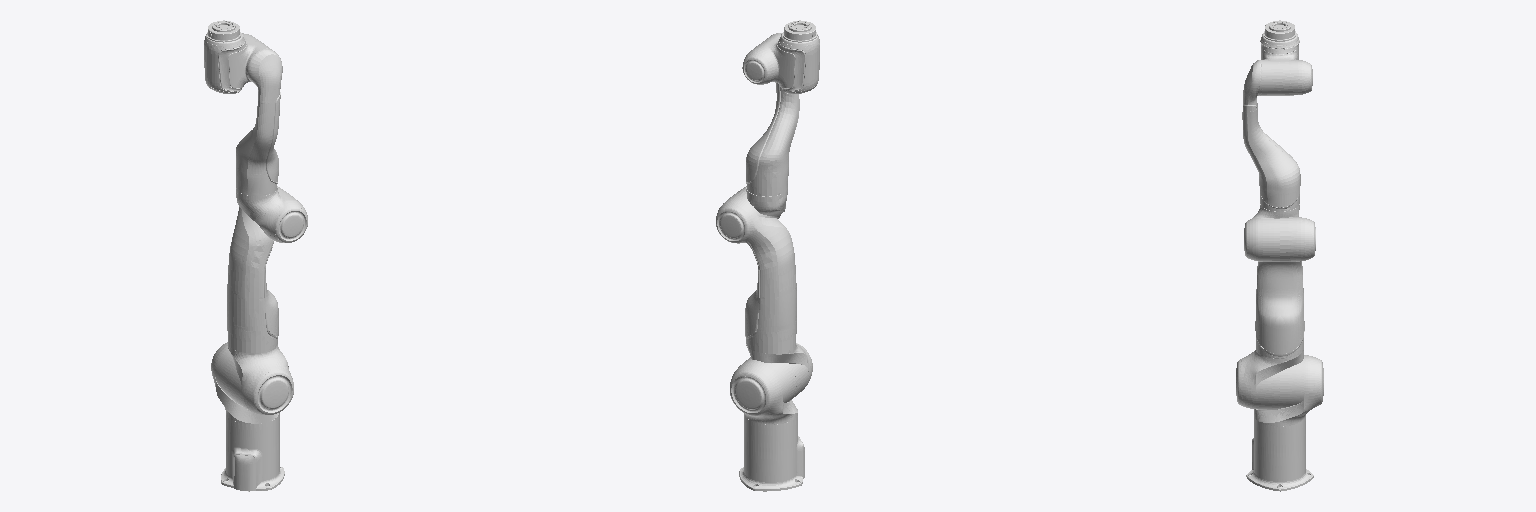
robot.urdf — diana7:
<?xml version="1.0" ?>
<robot name="diana7">
  <link name="world">
    <origin rpy="0 0 0" xyz="0 0 0"/>
  </link>
  <link name="base_link">
    <inertial>
      <origin rpy="0 0 0" xyz="0.00153097191906452 0.00152031034664837 0.0524230280849149"/>
      <mass value="1.33110743457779"/>
      <inertia ixx="0.00695879790529406" ixy="9.99328685258342E-05" ixz="7.99577031212481E-05" iyy="0.00695365531716522" iyz="7.90796997368543E-05" izz="0.00729823323321907"/>
    </inertial>
    <visual>
      <origin rpy="0 0 0" xyz="0 0 0"/>
      <geometry>
        <mesh filename="./meshes/visual/base.obj"/>
      </geometry>
      <material name="">
        <color rgba="0.9 0.9 0.9 1"/>
      </material>
    </visual>
    <collision>
      <origin rpy="0 0 0" xyz="0 0 0"/>
      <geometry>
        <mesh filename="./meshes/collision/base.stl"/>
      </geometry>
    </collision>
  </link>
  <joint name="base_joint" type="fixed">
    <parent link="world"/>
    <child link="base_link"/>
  </joint>
  <link name="link_1">
    <inertial>
      <origin rpy="0 0 0" xyz="5.5234067920554E-05  -0.0254878204920178 0.0355441421264809"/>
      <mass value="1.09025546409174"/>
      <inertia ixx="0.00585031196428369" ixy="1.4630349447555E-07" ixz="1.35351687162397E-06" iyy="0.00645496952227061" iyz="-0.00104800484741808" izz="0.00459531291521244"/>
    </inertial>
    <visual>
      <origin rpy="3.1415926531795866 0 0" xyz="0 0 0"/>
      <geometry>
        <mesh filename="./meshes/visual/link_1.obj"/>
      </geometry>
      <material name="">
        <color rgba="0.9 0.9 0.9 1"/>
      </material>
    </visual>
    <collision>
      <origin rpy="3.1415926531795866 0 0" xyz="0 0 0"/>
      <geometry>
        <mesh filename="./meshes/collision/link_1.stl"/>
      </geometry>
    </collision>
  </link>
  <joint name="joint_1" type="revolute">
    <origin rpy="-3.1415926535795866 0.0 -0.0" xyz="0.0 0.0 0.2856"/>
    <parent link="base_link"/>
    <child link="link_1"/>
    <axis xyz="0 0 1"/>
    <limit effort="235" lower="-3.12" upper="3.12" velocity="2.61"/>
  </joint>
  <link name="link_2">
    <inertial>
      <origin rpy="0 0 0" xyz="-3.62724763868157E-06 -0.0292741005087307 -0.041280769252073"/>
      <mass value="1.09515454908799"/>
      <inertia ixx="0.00575817488413533" ixy="4.92454490330888E-07" ixz="-5.75758988171004E-07" iyy="0.00452592941277235" iyz="0.00135206824645357" izz="0.0058904584276842"/>
    </inertial>
    <visual>
      <origin rpy="0 0 0" xyz="0 0 0"/>
      <geometry>
        <mesh filename="./meshes/visual/link_2.obj"/>
      </geometry>
      <material name="">
        <color rgba="0.9 0.9 0.9 1"/>
      </material>
    </visual>
    <collision>
      <origin rpy="0 0 0" xyz="0 0 0"/>
      <geometry>
        <mesh filename="./meshes/collision/link_2.stl"/>
      </geometry>
    </collision>
  </link>
  <joint name="joint_2" type="revolute">
    <origin rpy="1.57079632679 -0.0 0.0" xyz="0.0 -0.0 0.0"/>
    <parent link="link_1"/>
    <child link="link_2"/>
    <axis xyz="0 0 1"/>
    <limit effort="235" lower="-1.57" upper="1.57" velocity="2.618"/>
  </joint>
  <link name="link_3">
    <inertial>
      <origin rpy="0 3.1415926531795866 3.1415926531795866" xyz="0.0114318213510691 -0.0101707598694861 0.15131695375217"/>
      <mass value="2.01686690128149"/>
      <inertia ixx="0.0362470020041464" ixy="-0.00099203786071914" ixz="-0.00494440140493448" iyy="0.0374857206758098" iyz="-0.00313859974095155" izz="0.00905850119342719"/>
    </inertial>
    <visual>
      <origin rpy="3.1415926531795866 0 0" xyz="0 0 0"/>
      <geometry>
        <mesh filename="./meshes/visual/link_3.obj"/>
      </geometry>
      <material name="">
        <color rgba="0.9 0.9 0.9 1"/>
      </material>
    </visual>
    <collision>
      <origin rpy="3.1415926531795866 0 0" xyz="0 0 0"/>
      <geometry>
        <mesh filename="./meshes/collision/link_3.stl"/>
      </geometry>
    </collision>
  </link>
  <joint name="joint_3" type="revolute">
    <origin rpy="-1.57079632679 0.0 0.0" xyz="0.0 -0.4586 0.0"/>
    <parent link="link_2"/>
    <child link="link_3"/>
    <axis xyz="0 0 1"/>
    <limit effort="111" lower="-3.12" upper="3.12" velocity="2.61"/>
  </joint>
  <link name="link_4">
    <inertial>
      <origin rpy="0 0 0" xyz="-0.0240716370537192 -0.0235631728011761 -0.0366858174253844"/>
      <mass value="0.849743349506889"/>
      <inertia ixx="0.00313444335639628" ixy="-0.000681243351041131" ixz="0.000725380047812207" iyy="0.00333717642442852" iyz="0.000771057559109157" izz="0.0034847726349841"/>
    </inertial>
    <visual>
      <origin rpy="0 0 0" xyz="0 0 0"/>
      <geometry>
        <mesh filename="./meshes/visual/link_4.obj"/>
      </geometry>
      <material name="">
        <color rgba="0.9 0.9 0.9 1"/>
      </material>
    </visual>
    <collision>
      <origin rpy="0 0 0" xyz="0 0 0"/>
      <geometry>
        <mesh filename="./meshes/collision/link_4.stl"/>
      </geometry>
    </collision>
  </link>
  <joint name="joint_4" type="revolute">
    <origin rpy="1.57079632679 -0.0 0.0" xyz="0.065 -0.0 0.0"/>
    <parent link="link_3"/>
    <child link="link_4"/>
    <axis xyz="0 0 1"/>
    <limit effort="111" lower="0" upper="3.05" velocity="2.61"/>
  </joint>
  <link name="link_5">
    <inertial>
      <origin rpy="0 3.1415926531795866 3.1415926531795866" xyz="-0.00867148011164554 0.0383499684802812 0.188626"/>
      <mass value="1.20580396965245"/>
      <inertia ixx="0.0218436427570802" ixy="-0.000309747330693722" ixz="0.00089039094846826" iyy="0.0205896836785318" iyz="0.00493573923914426" izz="0.00372270106038425"/>
    </inertial>
    <visual>
      <origin rpy="3.1415926531795866 0 0" xyz="0 0 -0.02162"/>
      <geometry>
        <mesh filename="./meshes/visual/link_5.obj"/>
      </geometry>
      <material name="">
        <color rgba="0.9 0.9 0.9 1"/>
      </material>
    </visual>
    <collision>
      <origin rpy="3.1415926531795866 0 0" xyz="0 0 -0.02162"/>
      <geometry>
        <mesh filename="./meshes/collision/link_5.stl"/>
      </geometry>
    </collision>
  </link>
  <joint name="joint_5" type="revolute">
    <origin rpy="-1.57079632679 0.0 0.0" xyz="-0.0528 -0.4554 0.0"/>
    <parent link="link_4"/>
    <child link="link_5"/>
    <axis xyz="0 0 1"/>
    <limit effort="54" lower="-3.12" upper="3.12" velocity="3.14"/>
  </joint>
  <link name="link_6">
    <inertial>
      <origin rpy="0 3.1415926531795866 3.1415926531795866" xyz="0.045897226241036 0.00848579821002571 -0.0078257811617596"/>
      <mass value="0.847157564562275"/>
      <inertia ixx="0.00286926864109097" ixy="-0.000341664135091818" ixz="-0.000318082297486923" iyy="0.0043294660443987" iyz="-5.82962380662208E-05" izz="0.00437292566725527"/>
    </inertial>
    <visual>
      <origin rpy="3.1415926531795866 0 3.14159265359" xyz="0 0 0"/>
      <geometry>
        <mesh filename="./meshes/visual/link_6.obj"/>
      </geometry>
      <material name="">
        <color rgba="0.9 0.9 0.9 1"/>
      </material>
    </visual>
    <collision>
      <origin rpy="3.1415926531795866 0 3.14159265359" xyz="0 0 0"/>
      <geometry>
        <mesh filename="./meshes/collision/link_6.stl"/>
      </geometry>
    </collision>
  </link>
  <joint name="joint_6" type="revolute">
    <origin rpy="1.57079632679 -1.0206823934513925e-11 -3.141592653589793" xyz="-0.0122 0.0 0.0"/>
    <parent link="link_5"/>
    <child link="link_6"/>
    <axis xyz="0 0 1"/>
    <limit effort="54" lower="-3.12" upper="3.12" velocity="3.14"/>
  </joint>
  <link name="link_7">
    <inertial>
      <origin rpy="0 0 0" xyz="0.00117005127509708 5.03191940906655E-06 0.0151381784822231"/>
      <mass value="0.233956150459573"/>
      <inertia ixx="0.000142027360977168" ixy="1.76426389345981E-08" ixz="2.14635741626268E-07" iyy="0.000134421724783865" iyz="-1.29988689037464E-09" izz="0.000240242798572463"/>
    </inertial>
    <visual>
      <origin rpy="0 0 0" xyz="0 0 0"/>
      <geometry>
        <mesh filename="./meshes/visual/link_7.obj"/>
      </geometry>
      <material name="">
        <color rgba="0.9 0.9 0.9 1"/>
      </material>
    </visual>
    <collision>
      <origin rpy="0 0 0" xyz="0 0 0"/>
      <geometry>
        <mesh filename="./meshes/collision/link_7.stl"/>
      </geometry>
    </collision>
  </link>
  <joint name="joint_7" type="revolute">
    <origin rpy="-1.57079632679 0.0 0.0" xyz="0.087 -0.1169 -5.72411237751e-13"/>
    <parent link="link_6"/>
    <child link="link_7"/>
    <axis xyz="0 0 1"/>
    <limit effort="54" lower="-3.12" upper="3.12" velocity="3.14"/>
  </joint>
 <link
    name="end_effector">
    <inertial>
      <origin
        xyz="-0.0071664 -0.0025237 0.62327"
        rpy="0 0 0" />
      <mass
        value="26" />
      <inertia
        ixx="4.7812"
        ixy="0.00014947"
        ixz="0.20832"
        iyy="4.7983"
        iyz="0.026729"
        izz="0.11254" />
    </inertial>
    <visual>
      <origin
        xyz="0 0 0"
        rpy="0 0 0" />
      <geometry>
        <mesh
          filename="package://Diana7_Magnet/meshes/end_effector.STL" />
      </geometry>
      <material
        name="">
        <color
          rgba="0.75294 0.75294 0.75294 0.1" />
      </material>
    </visual>
    <collision>
      <origin
        xyz="0 0 0"
        rpy="0 0 0" />
      <geometry>
        <mesh
          filename="package://Diana7_Magnet/meshes/end_effector.STL" />
      </geometry>
    </collision>
  </link>
  <joint
    name="magnet"
    type="fixed">
    <origin
      xyz="0 0 -0.081"
      rpy="0 0 -1.5708" />
    <parent
      link="link_7" />
    <child
      link="end_effector" />
    <axis
      xyz="0 0 0" />
  </joint>
</robot>

--- What the picture shows (computed from the rendered views, not written in the file) ---
The picture shows the robot from 3 angles, left to right: view 1: azimuth 30°, elevation 25°; view 2: azimuth 150°, elevation 25°; view 3: azimuth 270°, elevation 25°; orthographic projection.
Model diana7 with 10 links and 9 joints (7 revolute, 2 fixed), rooted at world, posed every joint at zero.
Links seen in each view (by area): view 1: link_3, link_5, base_link, link_2, link_4, link_6, link_1, link_7; view 2: link_3, base_link, link_1, link_5, link_6, link_2, link_4, link_7; view 3: link_3, link_5, base_link, link_1, link_6, link_2, link_4, link_7.
Link boxes in pixels (bbox=[...]): link_3: bbox=[227, 186, 285, 352]; link_5: bbox=[236, 49, 282, 195]; base_link: bbox=[221, 414, 284, 491]; link_2: bbox=[227, 344, 293, 414]; link_4: bbox=[236, 187, 307, 242]; link_6: bbox=[204, 33, 271, 93]; link_1: bbox=[211, 342, 279, 423]; link_7: bbox=[206, 20, 240, 42]; link_3: bbox=[716, 191, 796, 353]; base_link: bbox=[739, 415, 804, 491]; link_1: bbox=[730, 357, 797, 424]; link_5: bbox=[746, 33, 799, 196]; link_6: bbox=[742, 32, 819, 93]; link_2: bbox=[746, 343, 812, 399]; link_4: bbox=[738, 186, 787, 218]; link_7: bbox=[783, 20, 817, 42]; link_3: bbox=[1255, 217, 1315, 358]; link_5: bbox=[1242, 60, 1300, 211]; base_link: bbox=[1246, 417, 1313, 491]; link_1: bbox=[1254, 355, 1323, 426]; link_6: bbox=[1260, 33, 1312, 95]; link_2: bbox=[1236, 350, 1303, 409]; link_4: bbox=[1244, 204, 1299, 261]; link_7: bbox=[1264, 20, 1295, 41].
Bounding box of the posed robot: 0.2651 × 0.2406 × 1.32 m (x, y, z).
8 mesh visuals loaded from 9 distinct referenced files (8 OBJ); not drawn: 1 (reference not matched to a file when rendering).
